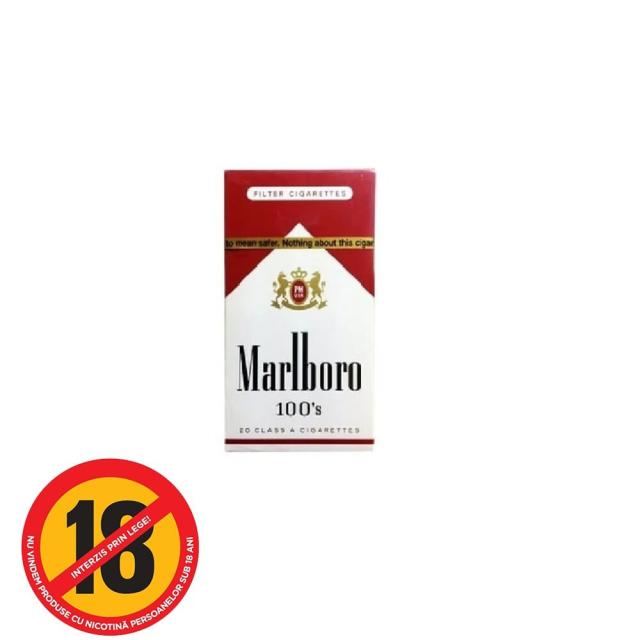marlboro: (215, 152, 398, 458)
